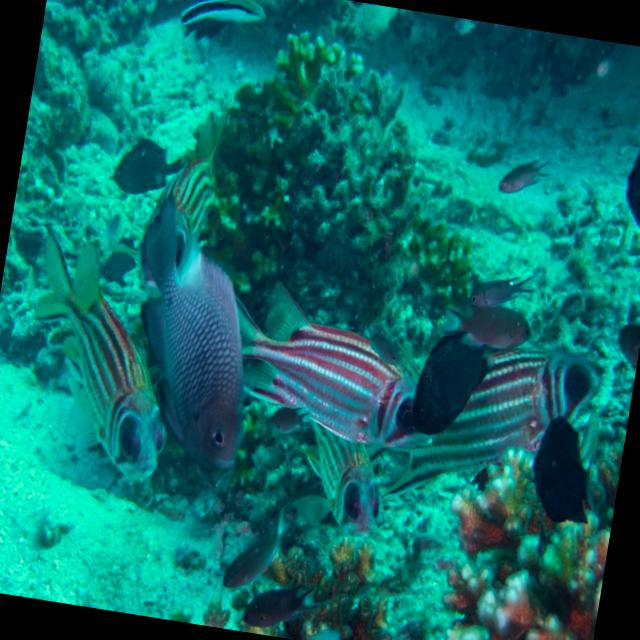Asker Baligi: (0, 196, 203, 565), (208, 280, 441, 470)
